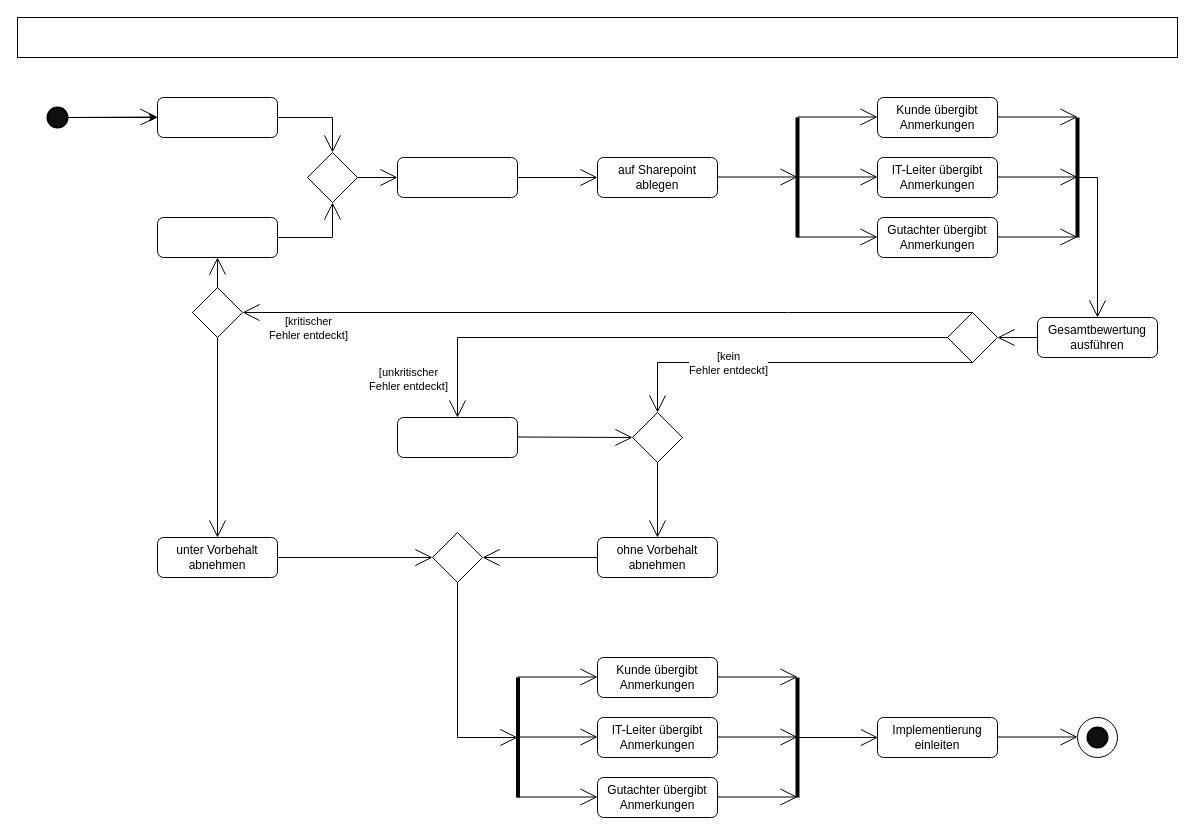
Some shapes in this 1195 by 835 pixel diagram are drawn without their labels. The centre of each missing label's shape, as x and y in pixels:
"Abnahme eines Fachfeinkonzepts" belongs at (x=597, y=37).
"Dokumente aufarbeiten" belongs at (x=457, y=177).
"Fachfeinkonzept erstellen" belongs at (x=217, y=117).
"Fachfeinkonzept korrigieren" belongs at (x=457, y=437).
"Fachfeinkonzept überarbeiten" belongs at (x=217, y=237).
